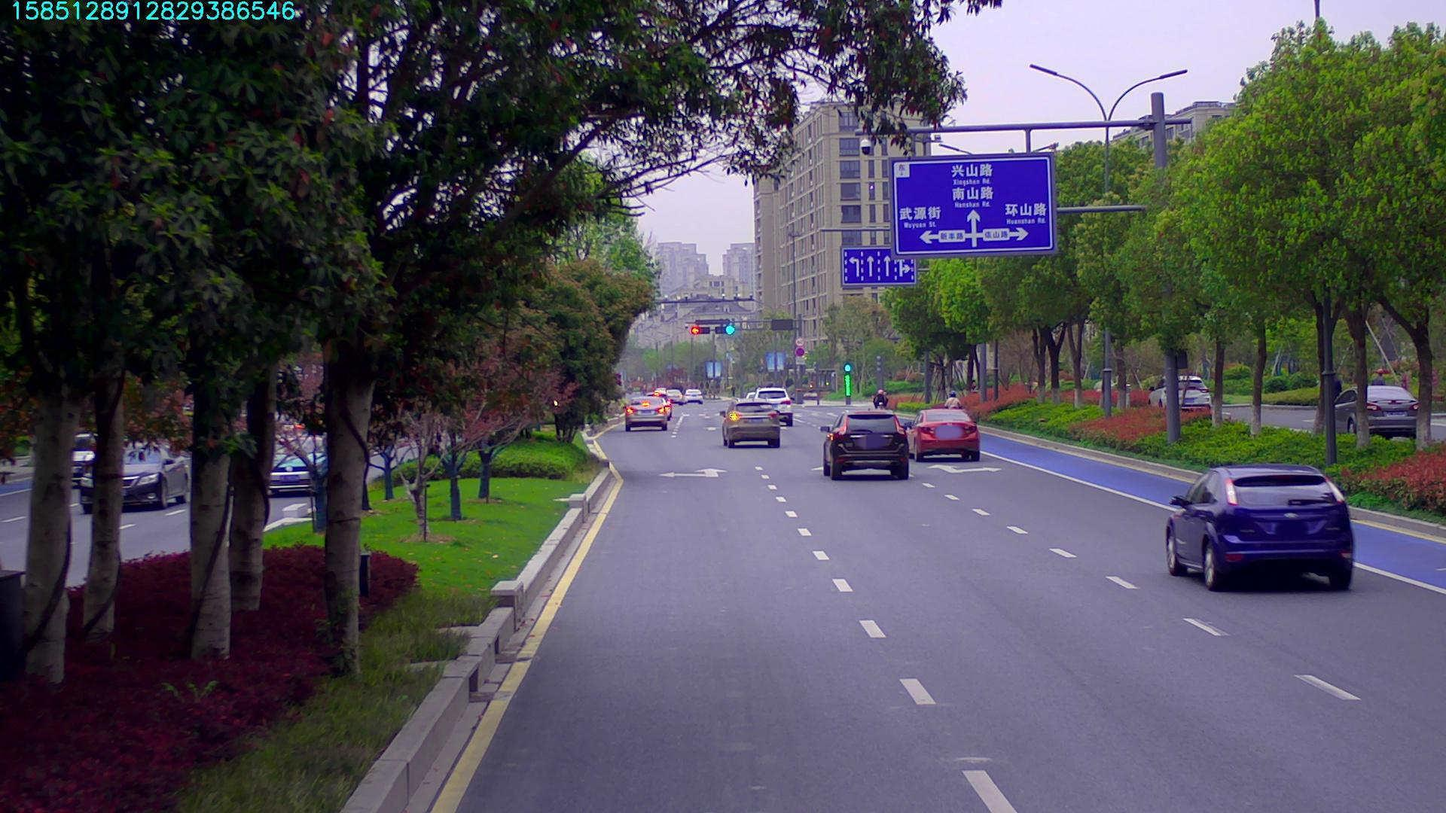green: (713, 322, 734, 335)
red: (688, 322, 715, 336)
